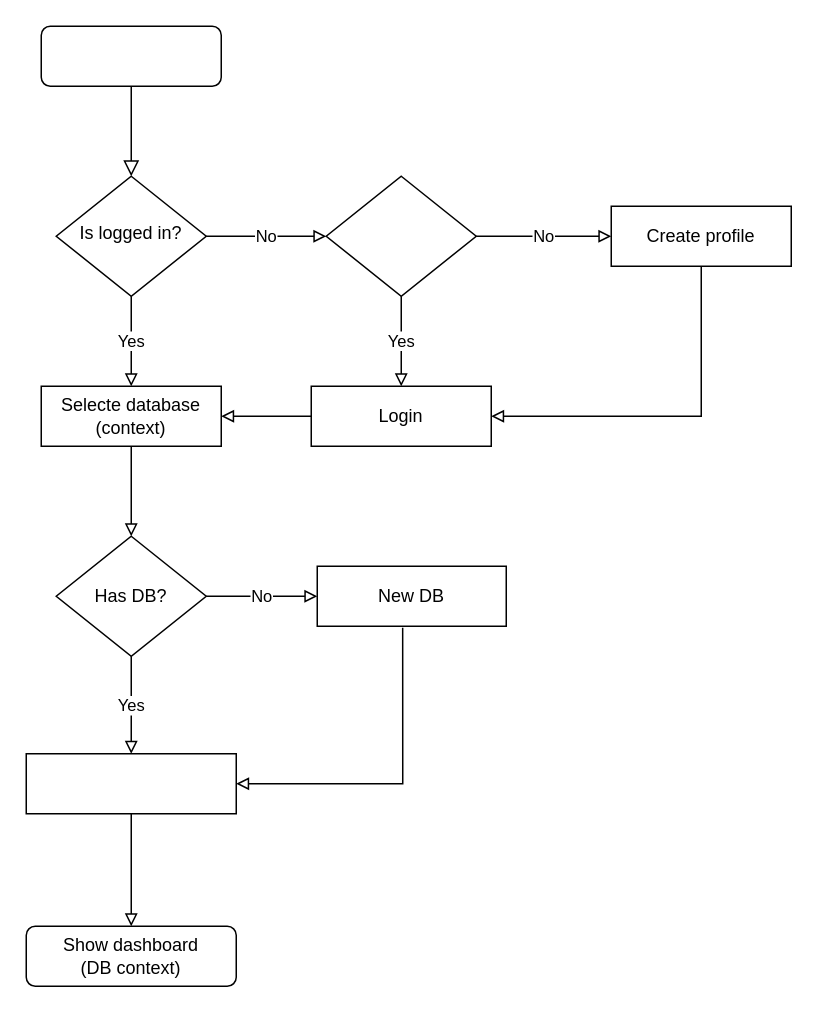
Image size: 818x1013. Some labels were removed from this diagram. Each missing label, with the centre of its shape:
"Has profile?" belongs at (400,235).
"Lands on app page" belongs at (130,55).
"Select DB" belongs at (130,783).
